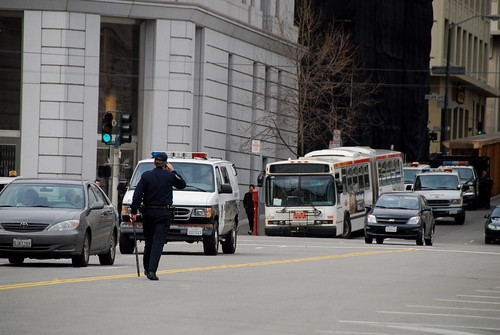building: (1, 1, 297, 220), (311, 1, 430, 178), (437, 1, 500, 164)
bus: (267, 146, 405, 235)
car: (125, 153, 244, 252), (1, 175, 119, 269), (368, 187, 433, 248)
policeman: (133, 146, 180, 291)
street: (1, 238, 493, 335)
